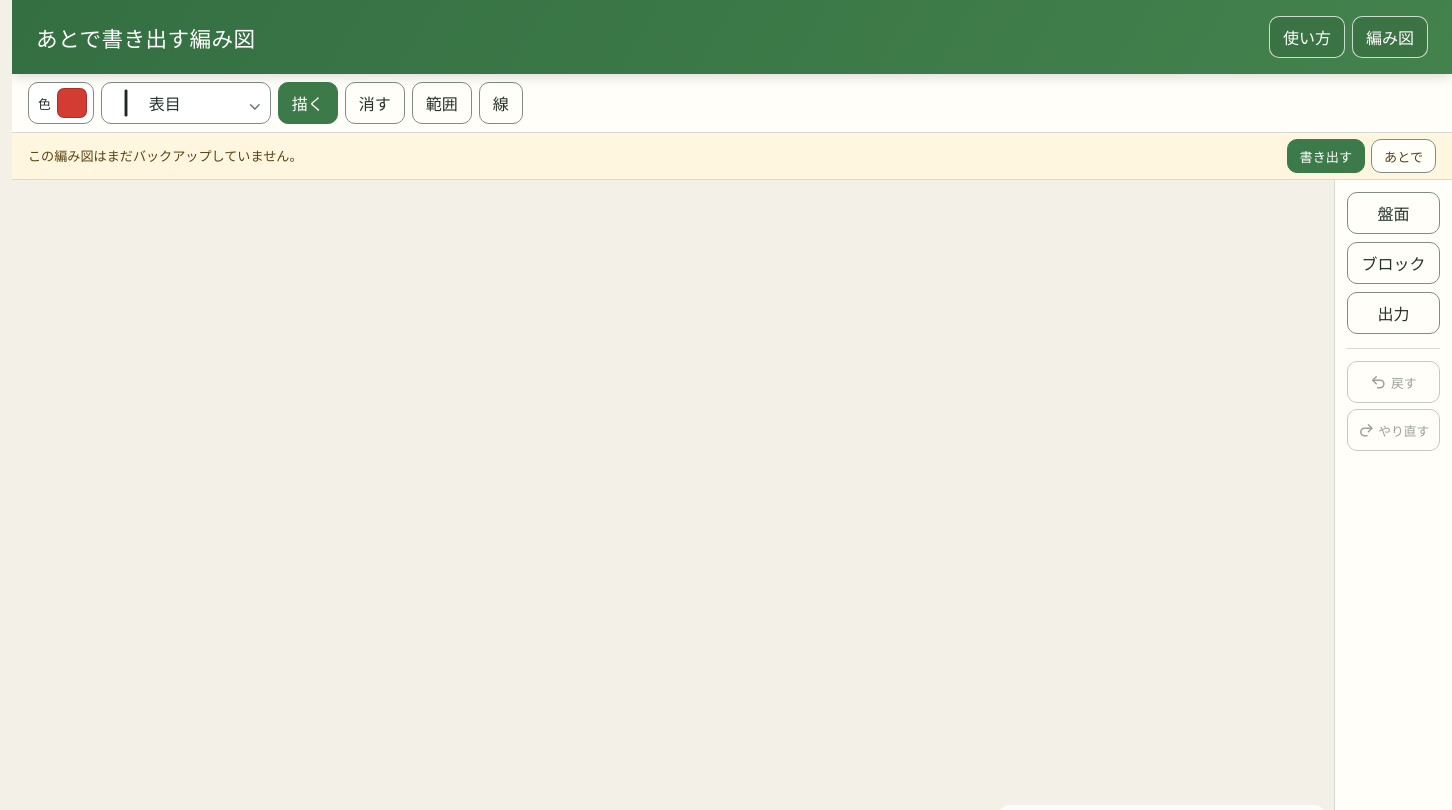
backup reminder › waits after "later" and keeps waiting after a reload
Click the button "あとで".
click(1404, 156)  # box [1371,139,1436,173]
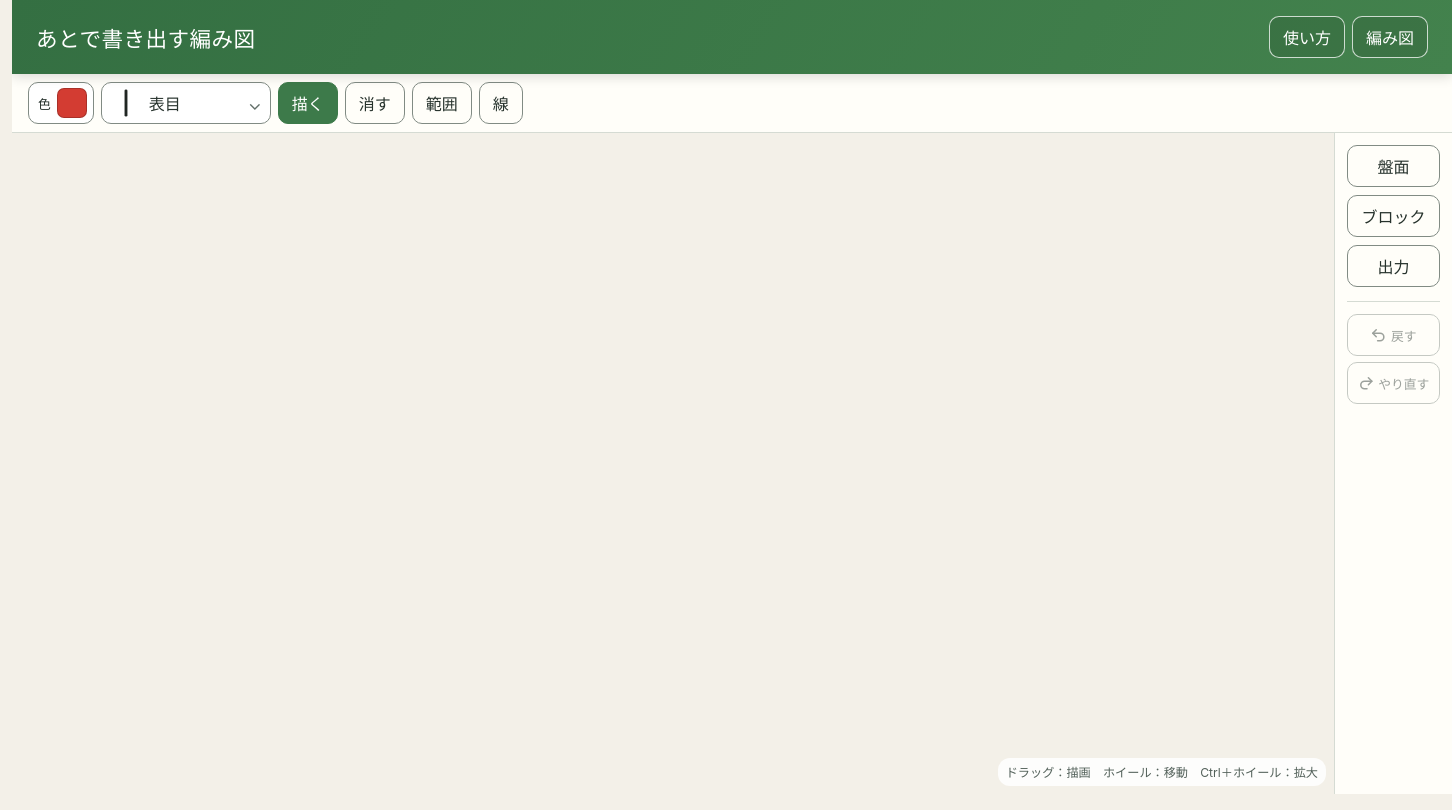
expect the element with class "backup-reminder" is gone: met
